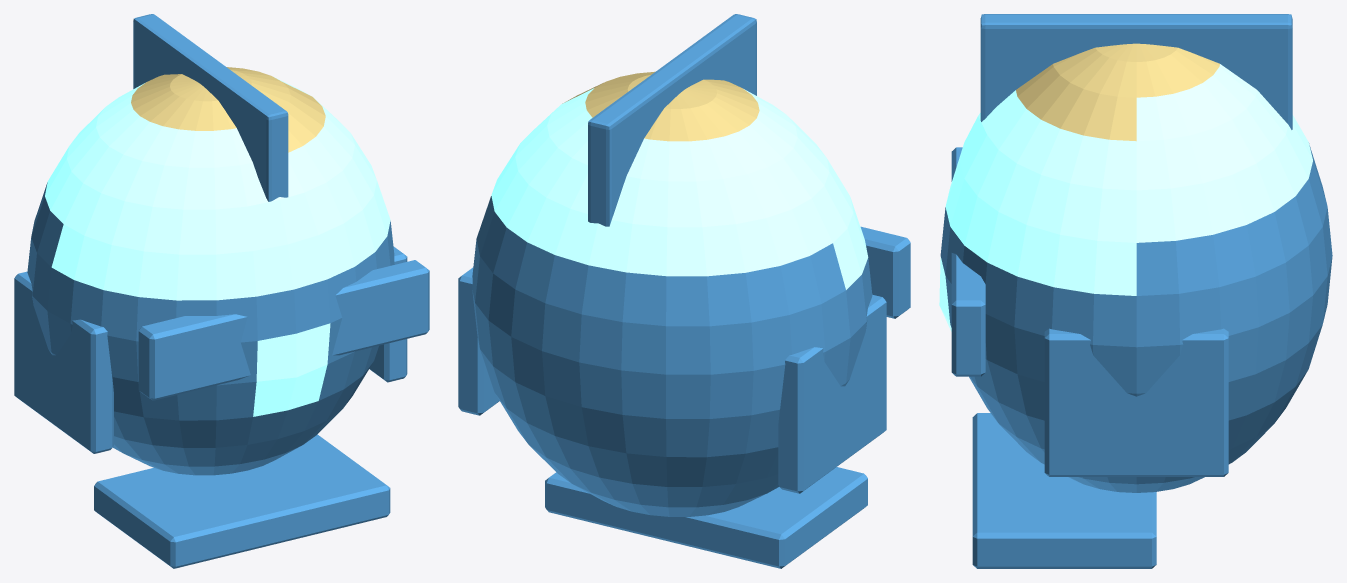
The model's file is helmet.glb.
3 renders of one model, left to right at view 1: azimuth 30°, elevation 25°; view 2: azimuth 150°, elevation 25°; view 3: azimuth 270°, elevation 25°, orthographic. The views are drawn at different scales.
Visible parts, largest first — view 1: armor_helmet_v001; view 2: armor_helmet_v001; view 3: armor_helmet_v001.
Part boxes in pixels (x1,y1,x2,y2): armor_helmet_v001: [14, 14, 429, 568]; armor_helmet_v001: [458, 14, 910, 568]; armor_helmet_v001: [939, 14, 1332, 568].
Bounding box in the file's own units: 0.2799 × 0.3496 × 0.254.
